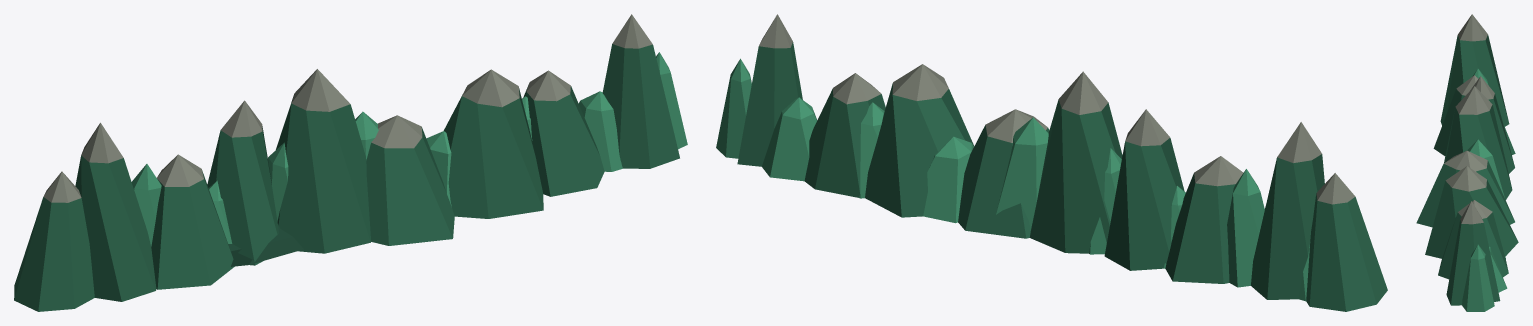
The model's file is W3_Far_Peaks.fbx.
The picture shows the model from 3 angles, left to right: view 1: azimuth 30°, elevation 25°; view 2: azimuth 150°, elevation 25°; view 3: azimuth 270°, elevation 25°; orthographic projection. The views are drawn at different scales.
Visible parts, largest first — view 1: W3_Far_Peaks; view 2: W3_Far_Peaks; view 3: W3_Far_Peaks.
Boxes of the visible parts, box(x1,y1,x2,y2) form: W3_Far_Peaks: box(14, 14, 687, 311); W3_Far_Peaks: box(716, 14, 1387, 311); W3_Far_Peaks: box(1416, 14, 1518, 311).
Bounding box in the file's own units: 607 × 141 × 121.
